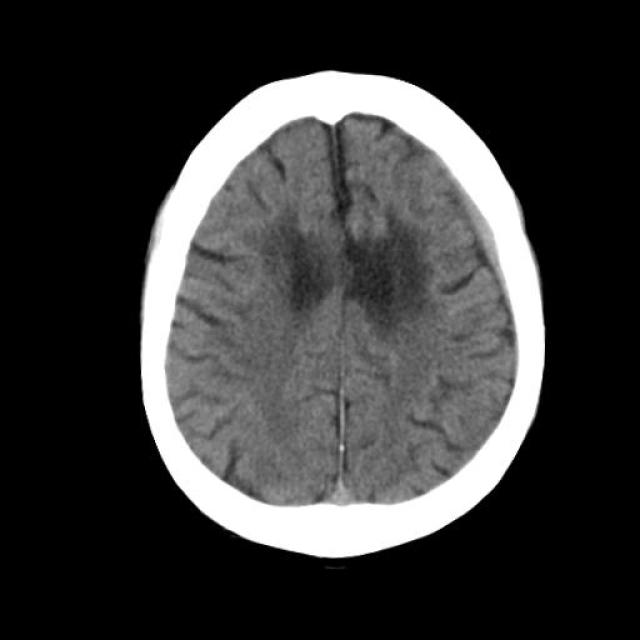Subdural: (387, 138, 544, 380)
